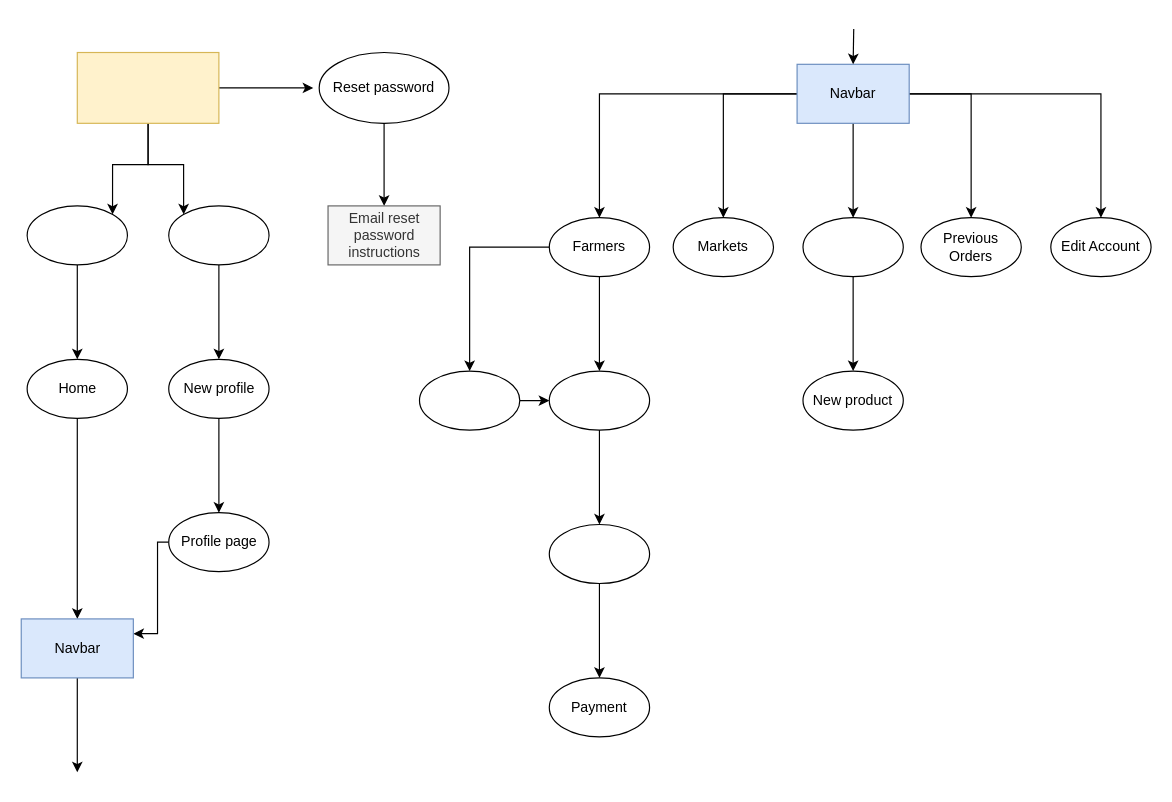
Image size: 1172x802. Some labels were removed from this diagram. The centre of each missing label's shape, as x and y in pixels:
"Farmer's Profile" goes at [599,400].
"Landing" goes at [147,87].
"Login" goes at [76,235].
"New farmer's profile" goes at [469,400].
"Order" goes at [599,553].
"Products" goes at [852,247].
"Register" goes at [218,235].
